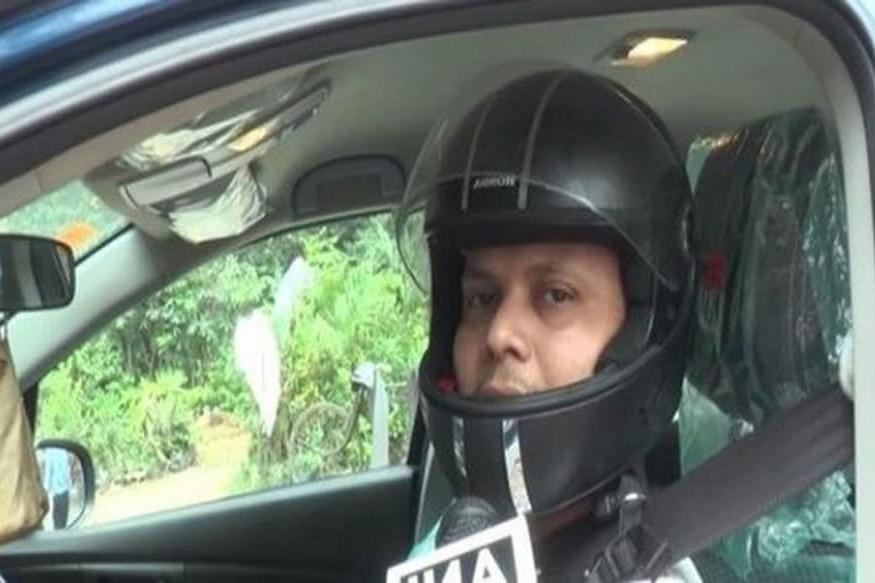Helmet: (390, 53, 699, 527)
